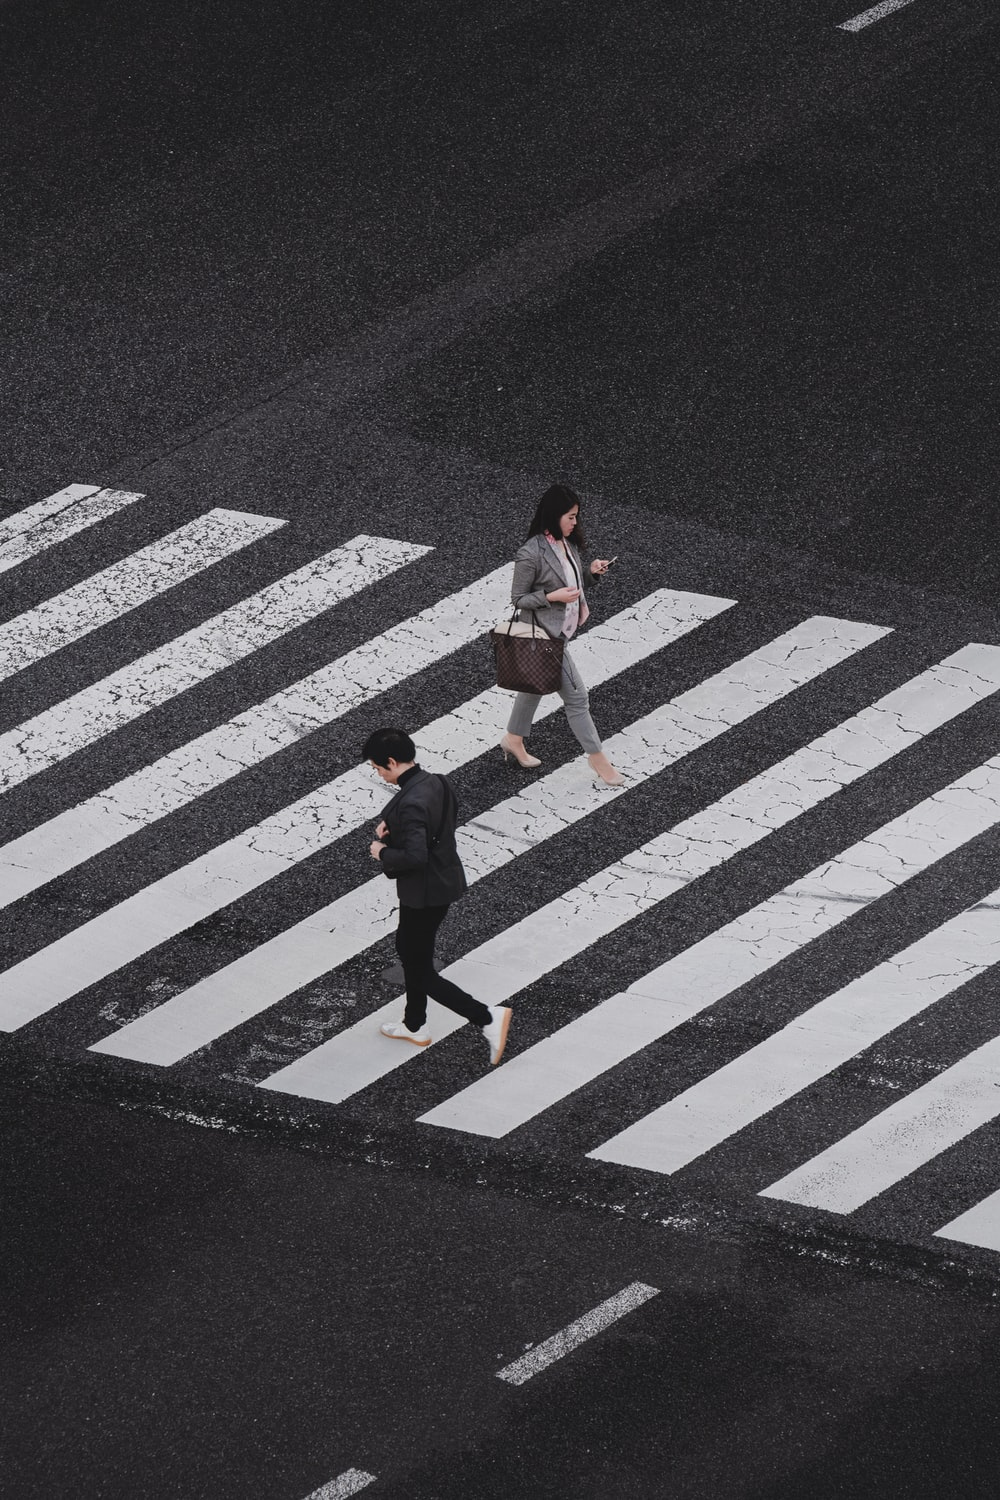person: (340, 722, 518, 1065), (499, 484, 637, 780)
